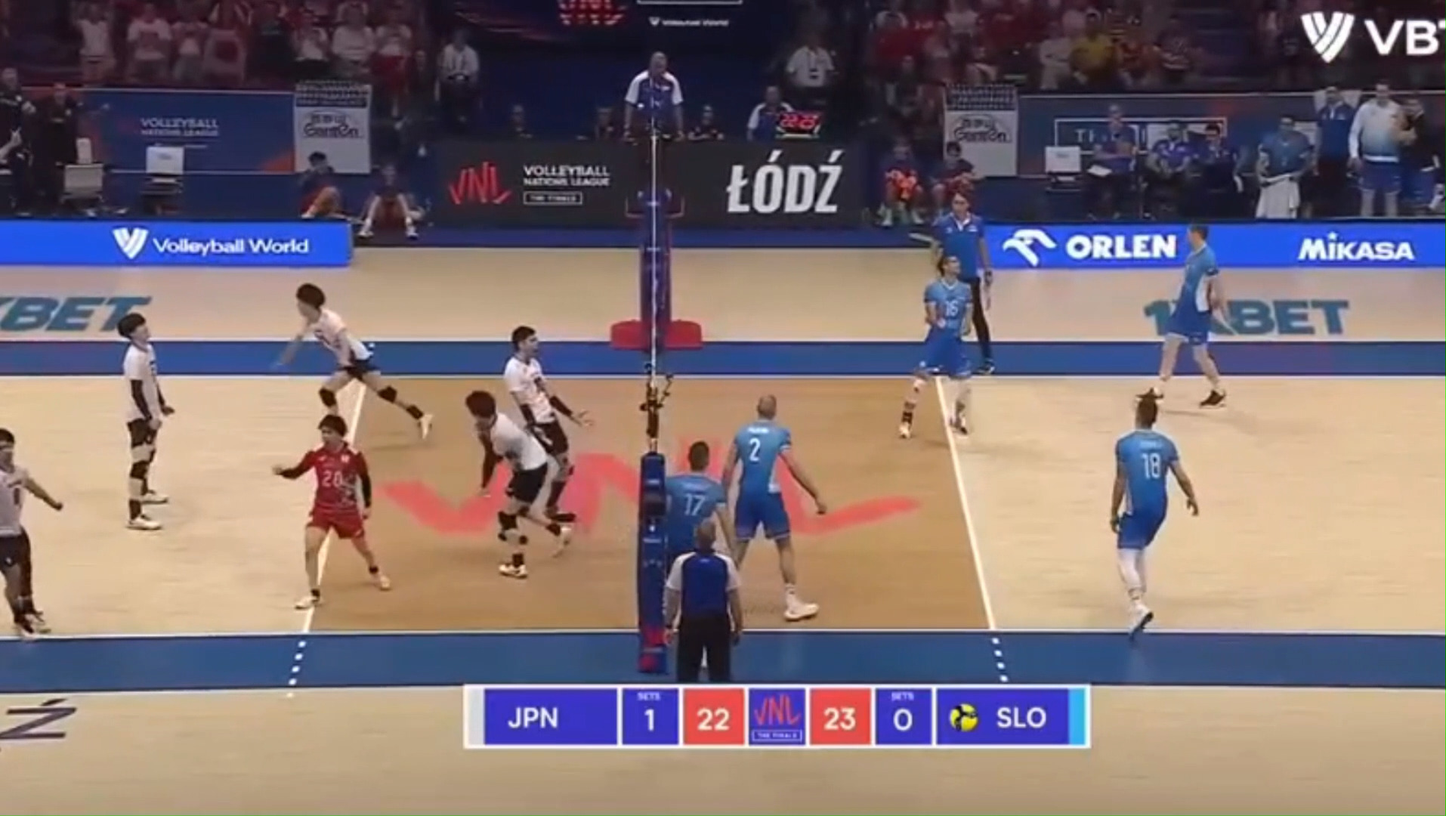player: (721, 395, 826, 621), (1109, 391, 1198, 637), (1141, 224, 1226, 407), (900, 255, 974, 437), (665, 441, 733, 571)
player 1: (281, 283, 431, 438), (273, 415, 390, 610), (464, 390, 573, 579), (503, 325, 587, 520), (0, 428, 63, 635), (117, 314, 174, 530)
referee: (663, 519, 743, 682), (934, 191, 992, 372), (625, 51, 683, 216)
